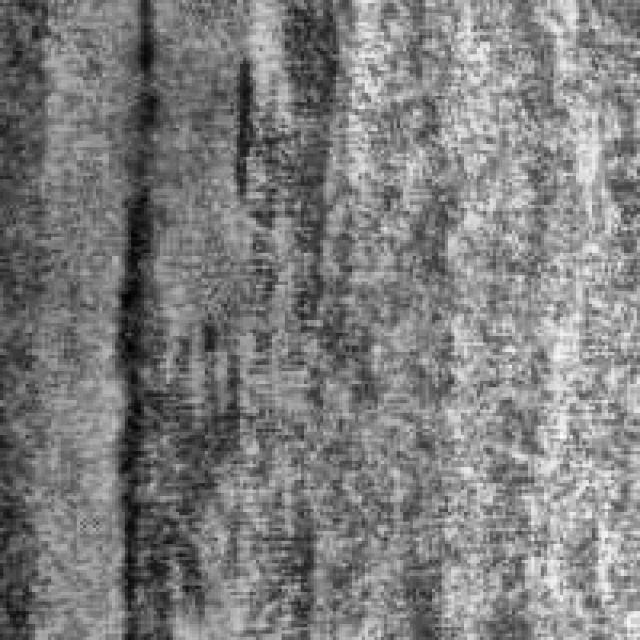Patches: (86, 3, 202, 618), (214, 42, 266, 234)
